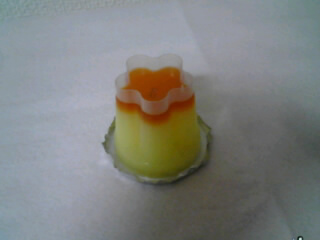001_classes: (94, 49, 224, 186)
